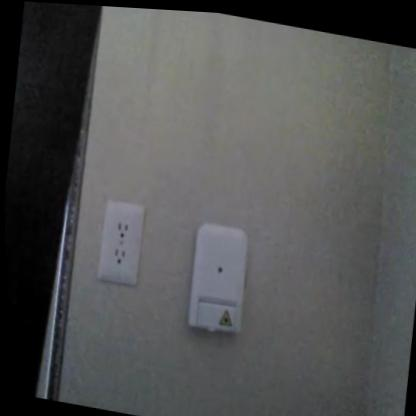OUTLET: (95, 198, 147, 286)
